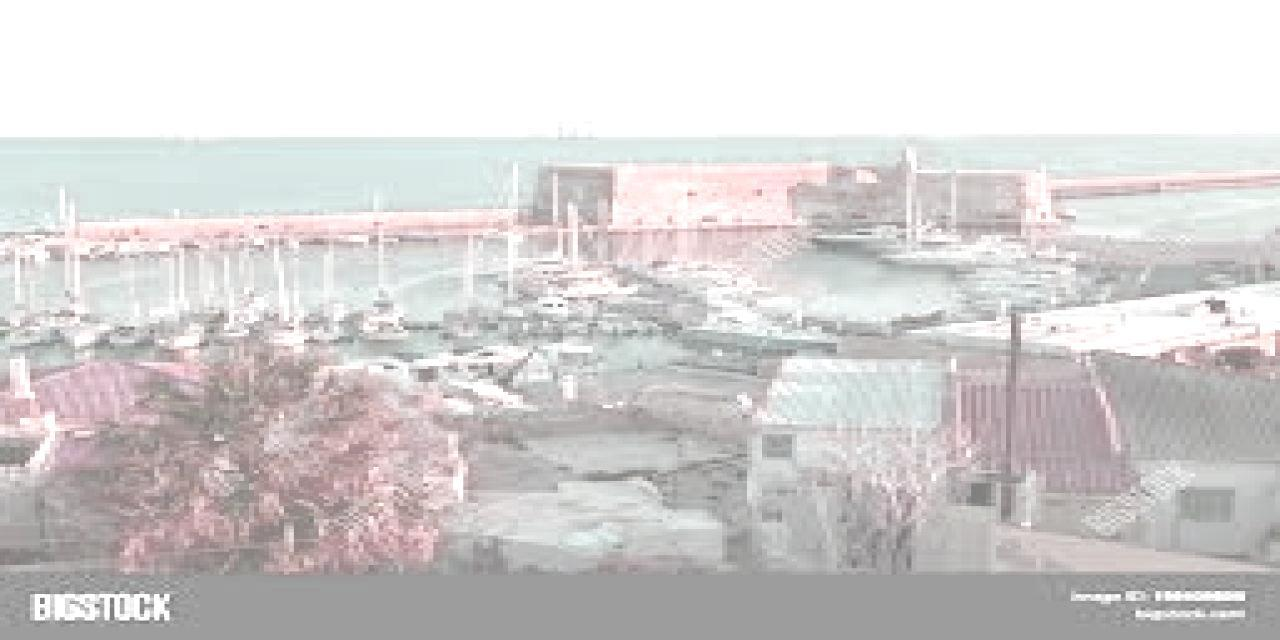Kules: (535, 154, 1081, 228)
